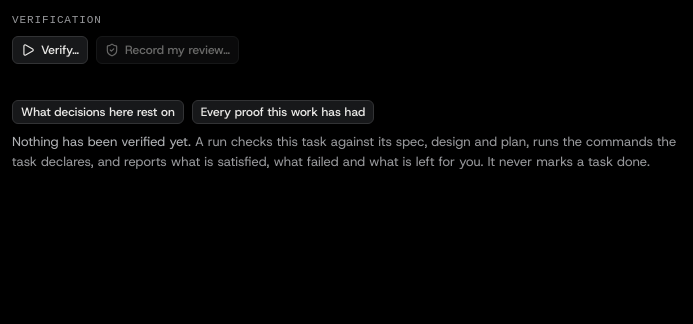
Test case: what a decision rests on › replaces a page rather than piling pages up, and walks back the way it came
Click the button "Every proof this work has had" at coordinates (283, 112), box [192, 100, 374, 124]
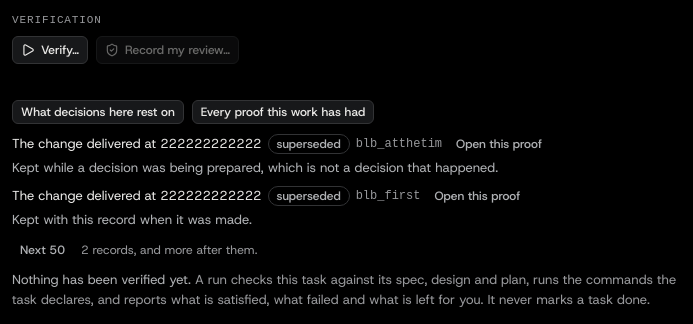
expect the text "Kept with this record when it was made." is shown: met, box [12, 211, 252, 228]
expect the text "2 records, and more after them." is shown: met, box [81, 242, 257, 258]
expect the button "Next 50" is shown: met
Click the button "Next 50" at coordinates (42, 250), box [12, 238, 73, 262]
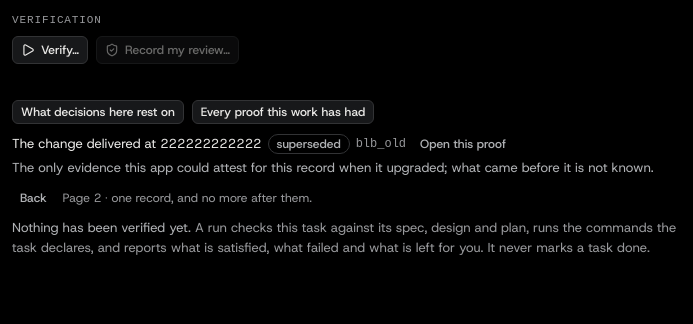
expect the text "what came before it is not known" is shown: met, box [12, 159, 654, 176]
expect the text "Kept with this record when it was made." is gone: met
expect the text "Page 2 · one record, and no more after them." is shown: met, box [63, 190, 312, 206]
Click the button "Back" at coordinates (33, 198), box [12, 186, 55, 210]
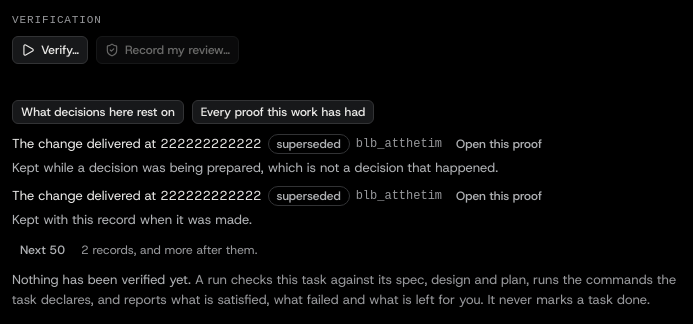
expect the text "Kept with this record when it was made." is shown: met, box [12, 211, 252, 228]
expect the text "what came before it is not known" is gone: met
